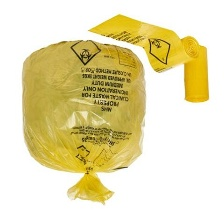plastic_bag: (11, 34, 156, 212), (87, 11, 203, 75), (175, 41, 215, 111)
